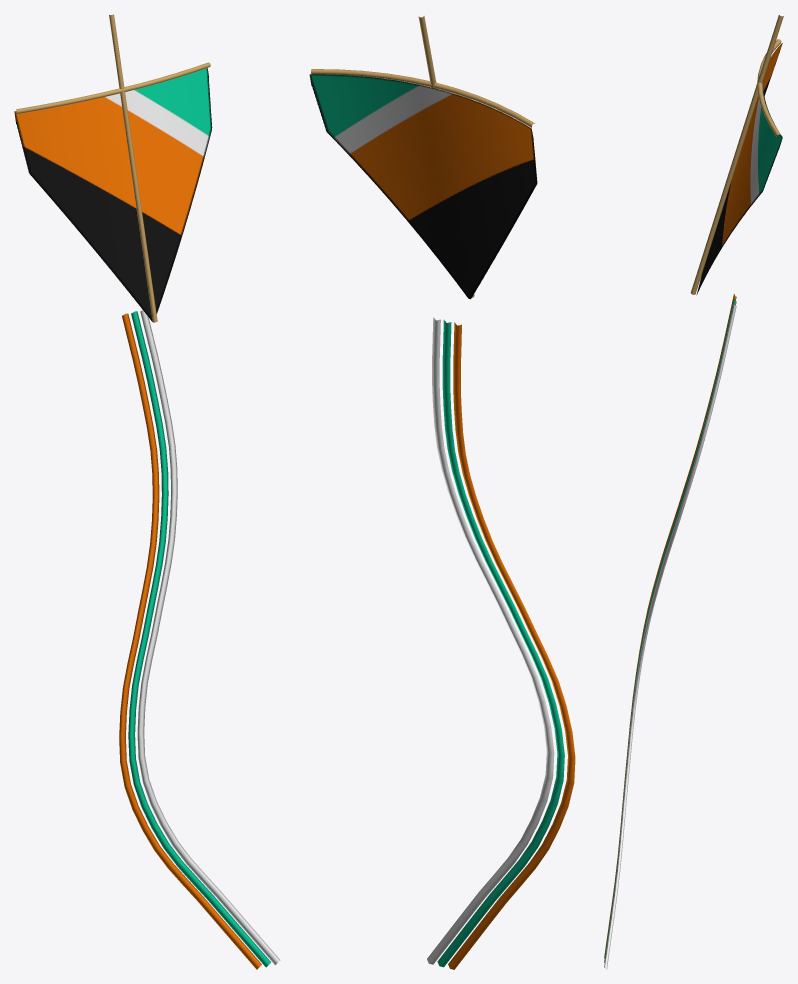
Rendered from bico-4-laranja-e-verde.glb.
3 views of the same model, side by side, from view 1: azimuth 30°, elevation 25°; view 2: azimuth 150°, elevation 25°; view 3: azimuth 270°, elevation 25° (orthographic). The views are drawn at different scales.
Visible parts, largest first — view 1: bico-4-laranja-e-verde; view 2: bico-4-laranja-e-verde; view 3: bico-4-laranja-e-verde.
Boxes of the visible parts, bbox=[...] form: bico-4-laranja-e-verde: bbox=[14, 14, 280, 969]; bico-4-laranja-e-verde: bbox=[309, 16, 575, 969]; bico-4-laranja-e-verde: bbox=[604, 15, 783, 969].
Bounding box in the file's own units: 1.06 × 4.72 × 0.8386.
Materials: 5 (1 with a texture image).
